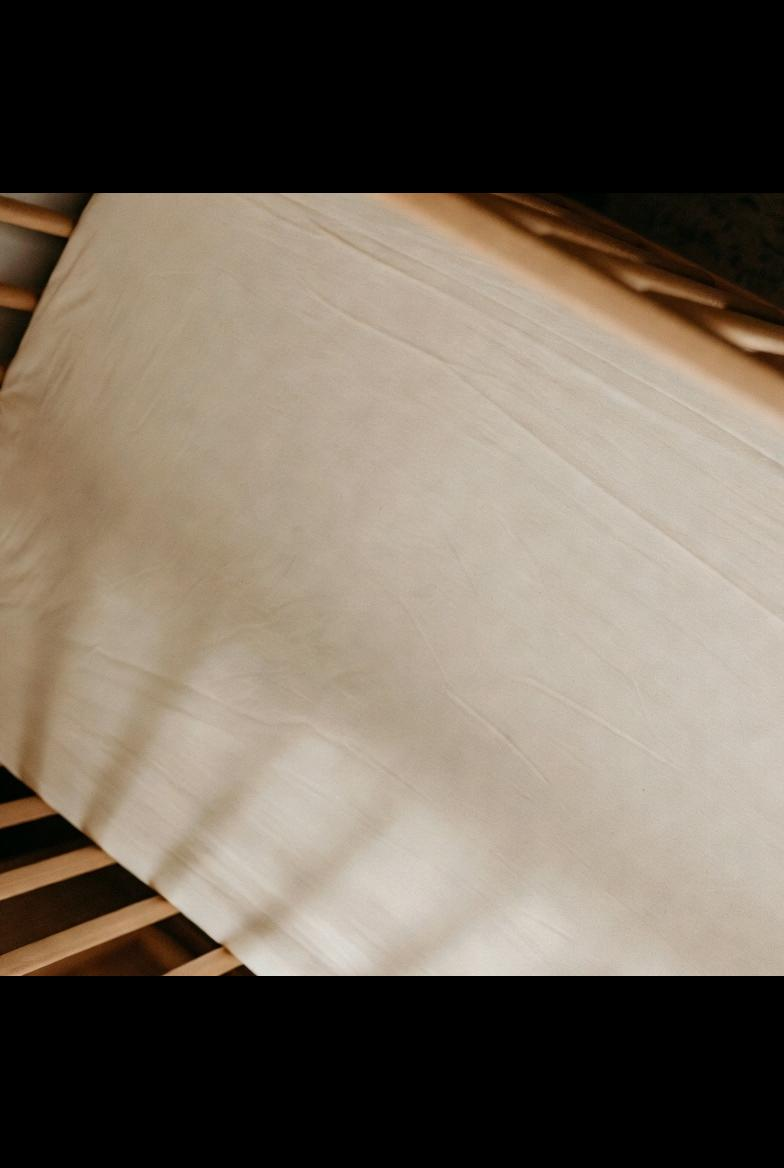crib: (0, 192, 784, 976)
